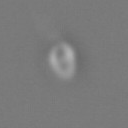normal: (36, 1, 66, 42)
